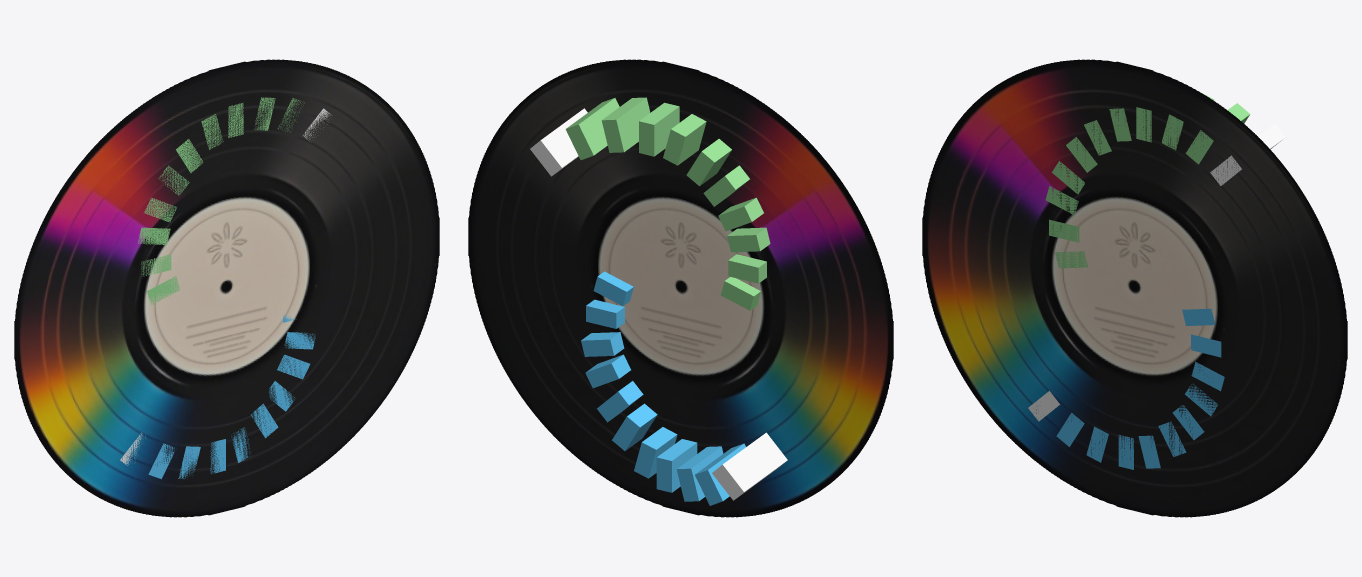
The model's file is disc_fill.obj.
The picture shows the model from 3 angles, left to right: view 1: azimuth 30°, elevation 25°; view 2: azimuth 150°, elevation 25°; view 3: azimuth 330°, elevation 25°; orthographic projection.
Visible parts, largest first — view 1: 平面; view 2: 平面, cube22, cube3, cube2, cube1, cube4, cube5, cube19, cube20, cube18, cube17, cube6 (+11 smaller); view 3: 平面, cube1, cube2, cube3.
Part boxes in pixels (x1,y1,x2,y2): 平面: [14, 59, 439, 517]; 平面: [468, 59, 893, 517]; cube22: [712, 432, 787, 500]; cube3: [601, 97, 650, 152]; cube2: [565, 98, 619, 159]; cube1: [530, 108, 587, 176]; cube4: [639, 102, 679, 156]; cube5: [663, 114, 706, 165]; cube19: [656, 439, 697, 492]; cube20: [676, 446, 723, 501]; cube18: [634, 427, 677, 478]; cube17: [612, 403, 657, 450]; cube6: [686, 139, 731, 186]; 平面: [922, 59, 1347, 517]; cube1: [1210, 123, 1285, 185]; cube2: [1185, 103, 1250, 164]; cube3: [1161, 92, 1214, 150].
Size of the model in its own units: 14 by 14 by 2.5.
Materials: 4 (1 with a texture image).
